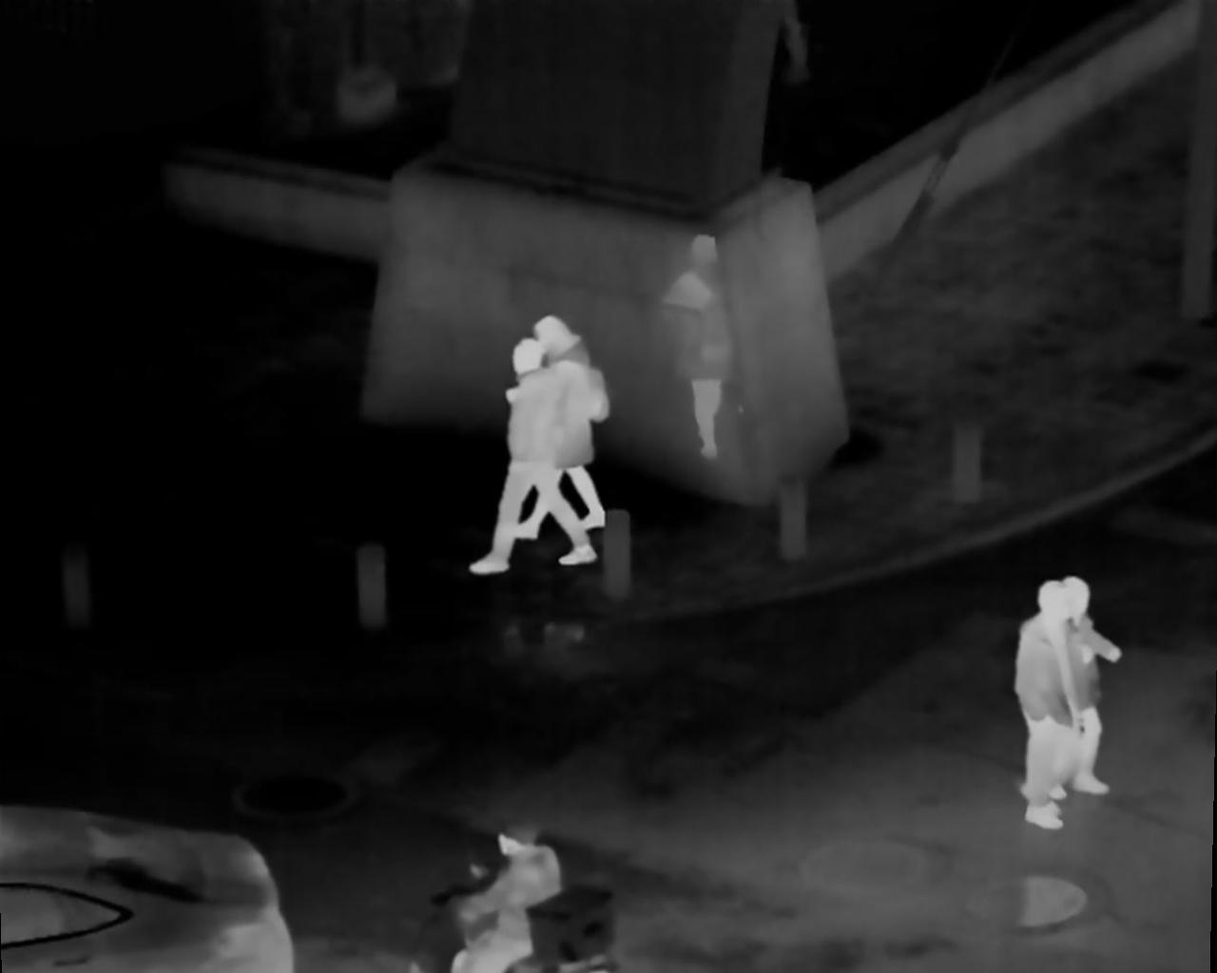person: (491, 346, 603, 560), (1022, 581, 1091, 830), (449, 826, 561, 973), (534, 317, 606, 524), (1062, 583, 1122, 812)
